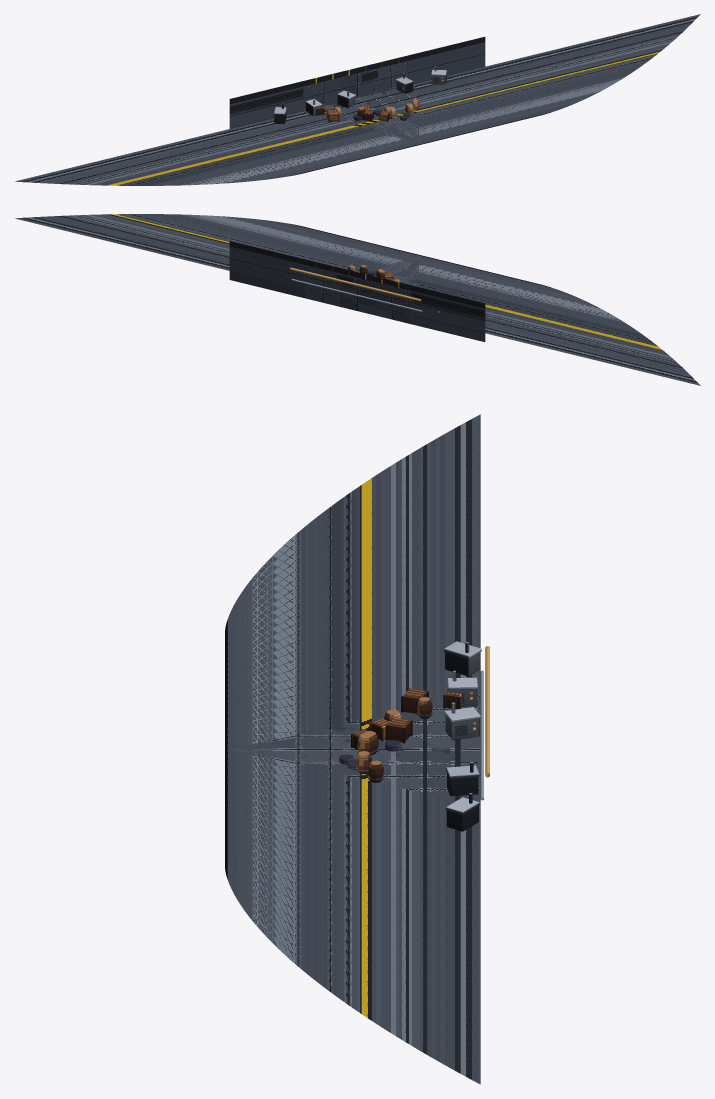
Rendered from bg_power.glb.
3 views of the same model, one above another, from view 1: azimuth 30°, elevation 25°; view 2: azimuth 150°, elevation 25°; view 3: azimuth 270°, elevation 25° (orthographic). The views are drawn at different scales.
Parts seen in each view (by area): view 1: power_floor, power_wall, power_decor; view 2: power_floor, power_wall, pipe18, power_decor, pipe50; view 3: power_floor, power_decor.
Boxes of the visible parts, <box> form: power_floor: <box>15,14,700,185</box>; power_wall: <box>229,37,485,128</box>; power_decor: <box>274,66,447,123</box>; power_floor: <box>15,214,700,385</box>; power_wall: <box>229,241,485,341</box>; pipe18: <box>290,267,421,301</box>; power_decor: <box>348,265,439,312</box>; pipe50: <box>291,279,422,311</box>; power_floor: <box>225,414,480,1084</box>; power_decor: <box>339,641,481,831</box>.
Size of the model in its own units: 80 by 4.34 by 13.38.
Materials: 7 (2 with a texture image).
